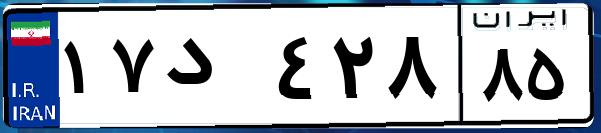1: (57, 26, 110, 100)
2: (330, 28, 385, 110)
4: (270, 28, 330, 110)
5: (525, 38, 570, 115)
7: (110, 28, 158, 98)
8: (385, 28, 445, 110), (475, 38, 525, 113)
د: (158, 20, 270, 120)
